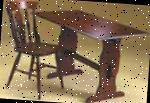Mesa: (27, 2, 149, 102)
Silla: (0, 0, 72, 101)
